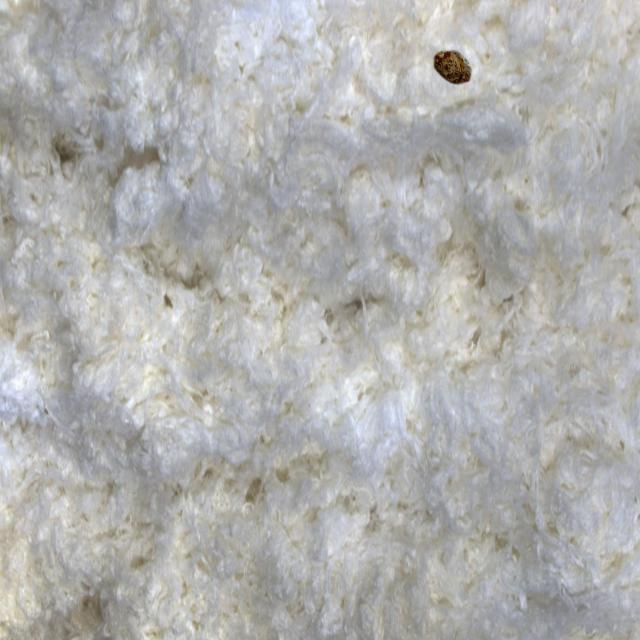dust: (421, 16, 495, 129)
